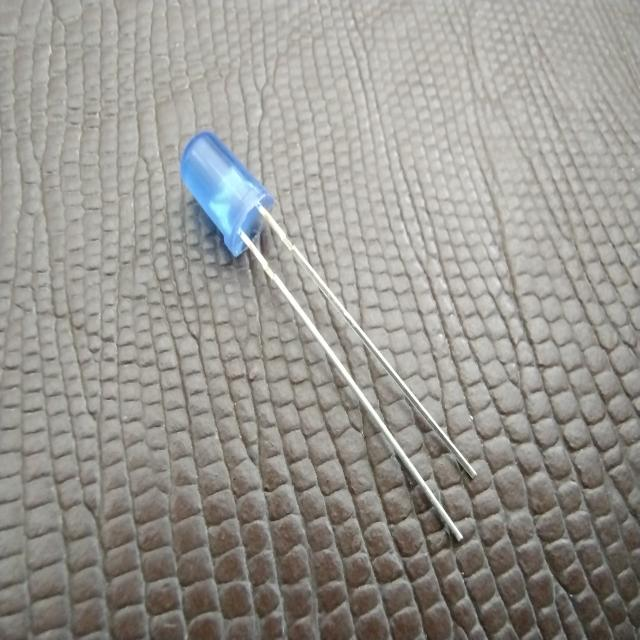blue_led: (178, 128, 274, 258)
